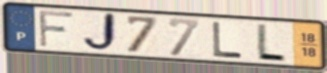7: (167, 17, 203, 58), (125, 14, 160, 55)
F: (37, 9, 77, 50)
J: (80, 11, 119, 54)
L: (254, 22, 288, 63), (211, 20, 245, 60)
